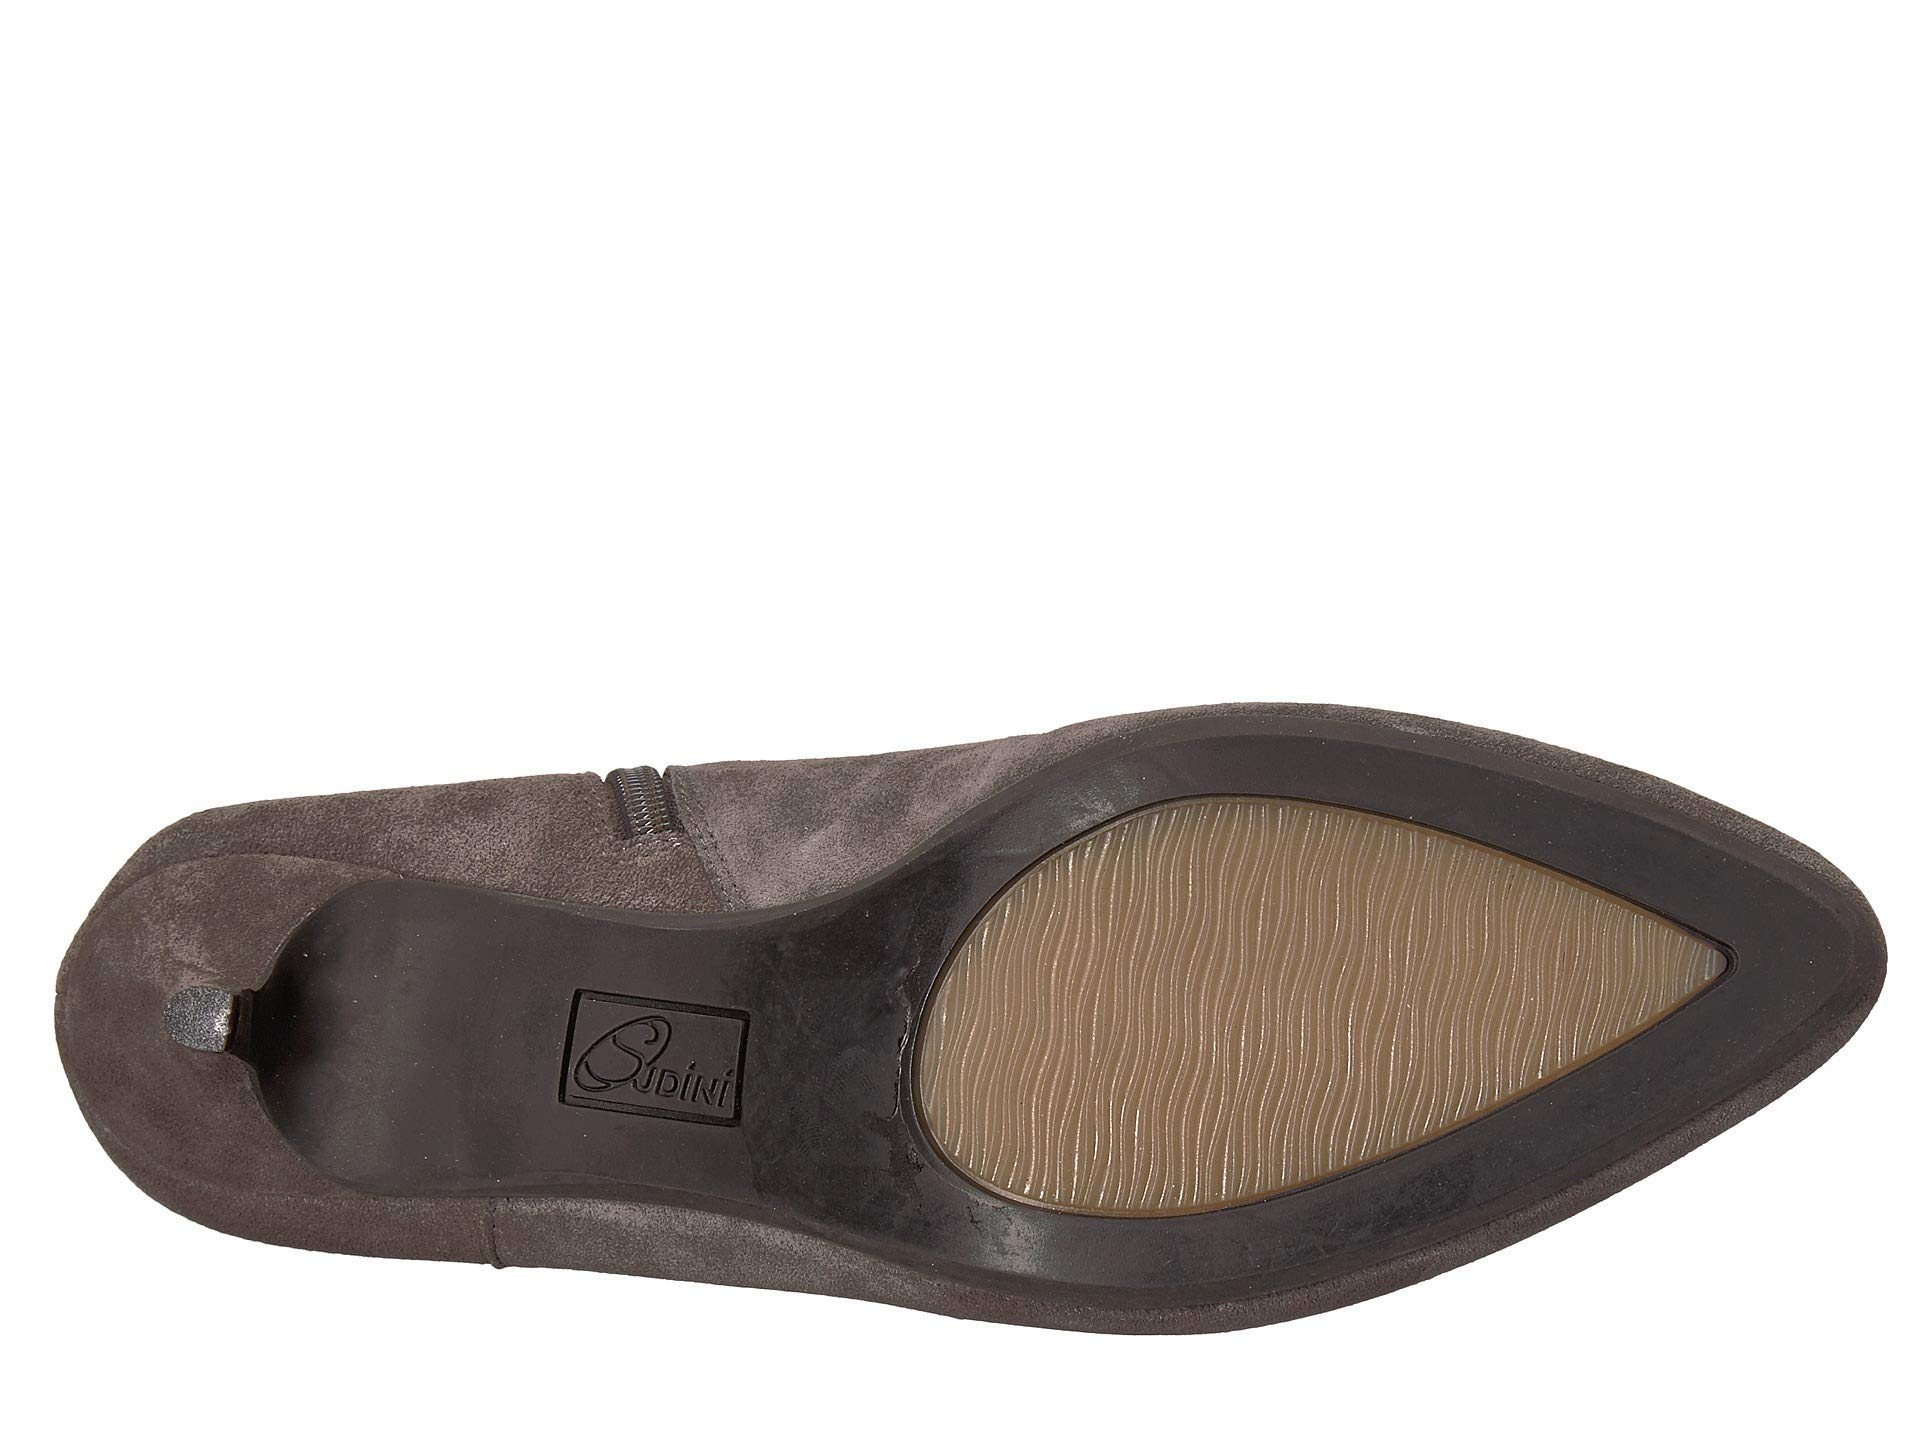exclude: (233, 802, 909, 1265)
line: (1027, 877, 1556, 1119)
quad: (144, 979, 225, 1051)
